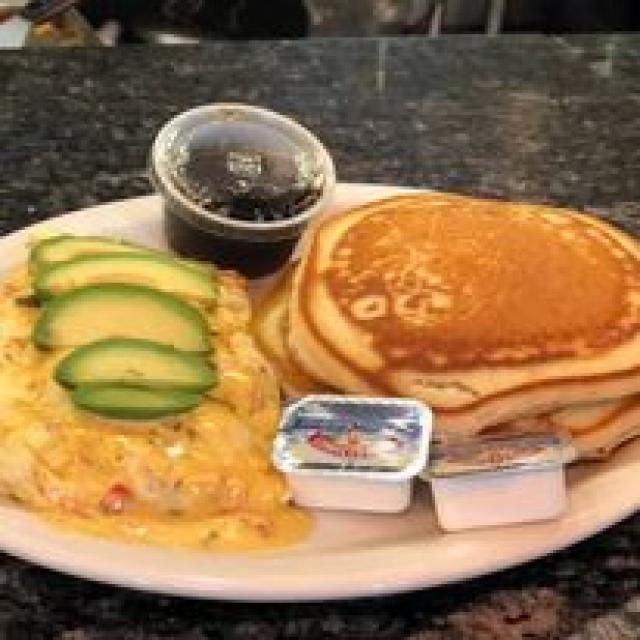Omelette: (2, 208, 299, 567)
Pancakes: (283, 190, 637, 450)
